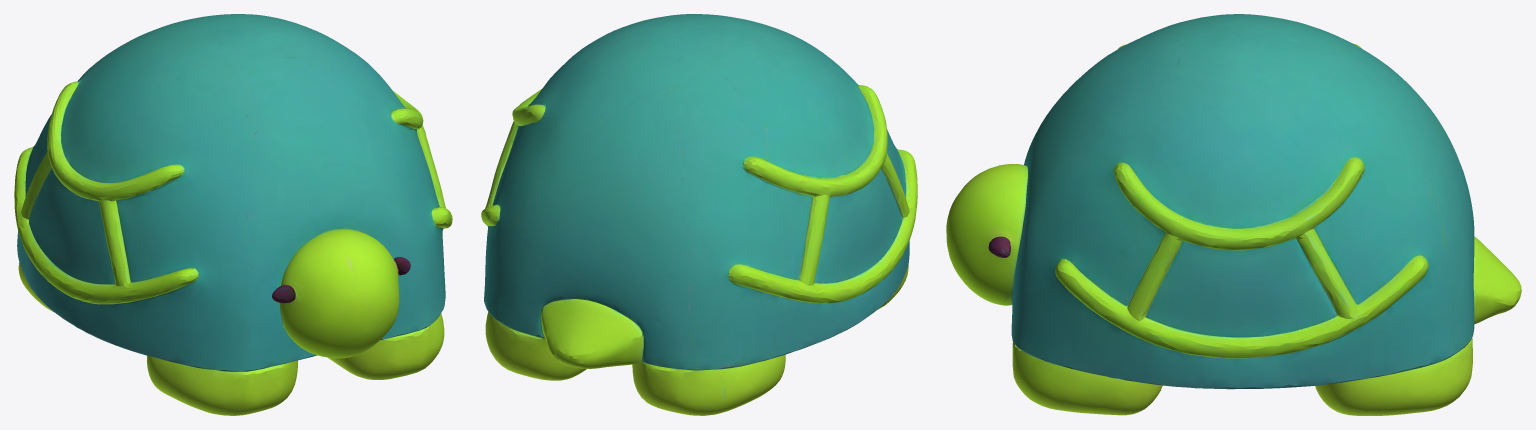
Rendered from turtle.glb.
The picture shows the model from 3 angles, left to right: view 1: azimuth 30°, elevation 25°; view 2: azimuth 150°, elevation 25°; view 3: azimuth 270°, elevation 25°; orthographic projection. The views are drawn at different scales.
Parts seen in each view (by area): view 1: Mesh; view 2: Mesh; view 3: Mesh.
Part boxes in pixels (left/top/right/bottom): Mesh: left=14, top=14, right=452, bottom=415; Mesh: left=481, top=14, right=917, bottom=415; Mesh: left=946, top=14, right=1521, bottom=415.
Size of the model in its own units: 0.785 by 0.6102 by 1.
Materials: 1 (1 with a texture image).
